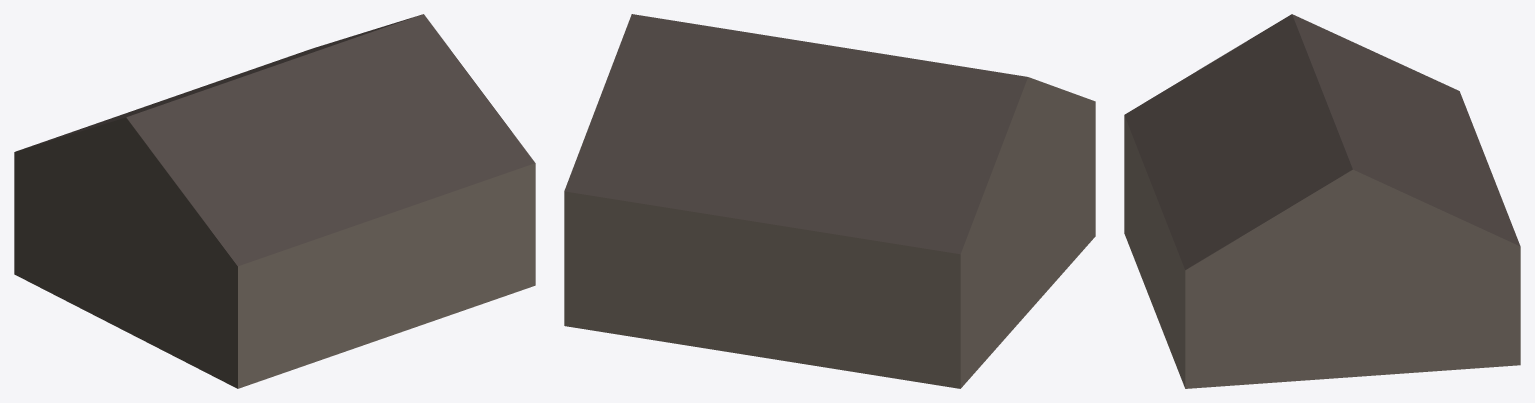
The picture shows the model from 3 angles, left to right: view 1: azimuth 30°, elevation 25°; view 2: azimuth 150°, elevation 25°; view 3: azimuth 270°, elevation 25°; orthographic projection. The views are drawn at different scales.
Parts seen in each view (by area): view 1: HP-w858807481; view 2: HP-w858807481; view 3: HP-w858807481.
Part boxes in pixels (x1,y1,x2,y2): HP-w858807481: (14,14,535,388); HP-w858807481: (564,14,1095,388); HP-w858807481: (1124,14,1520,388).
Size of the model in its own units: 9.72 by 5.25 by 9.08.
